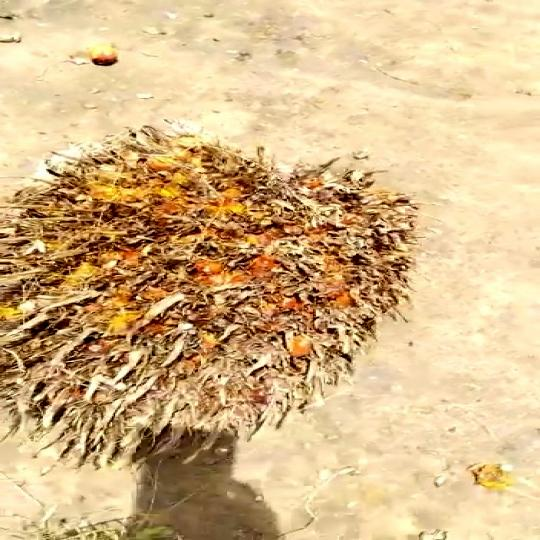terlalu masak: (0, 120, 446, 471)
